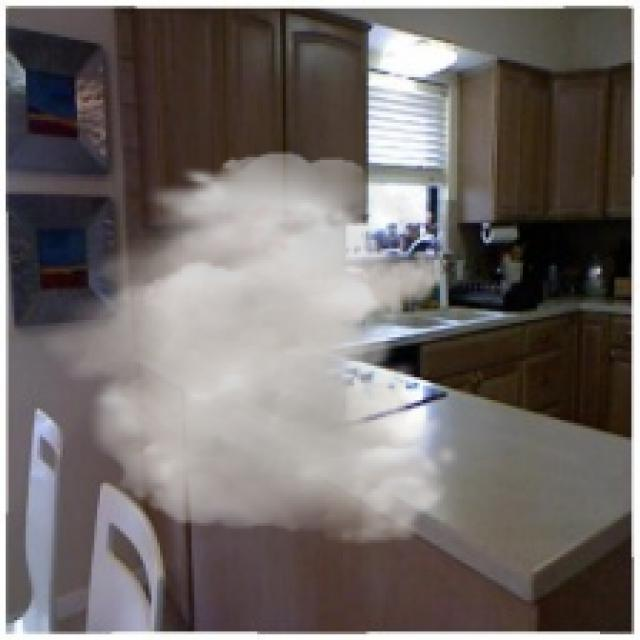smoke: (34, 151, 460, 546)
